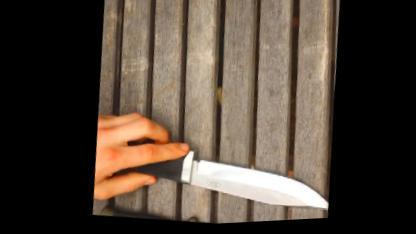knife: (110, 102, 334, 227), (169, 208, 290, 226)
